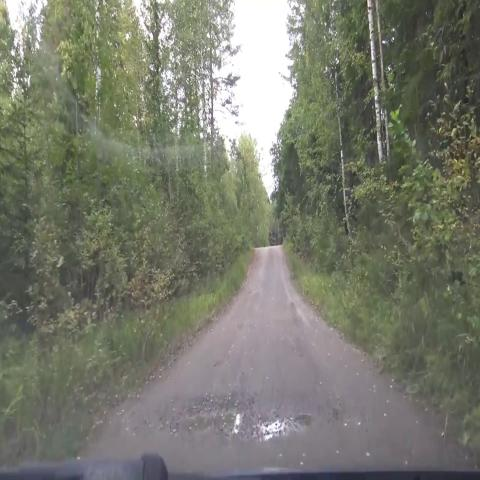pothole: (149, 380, 248, 442), (247, 390, 324, 448)
